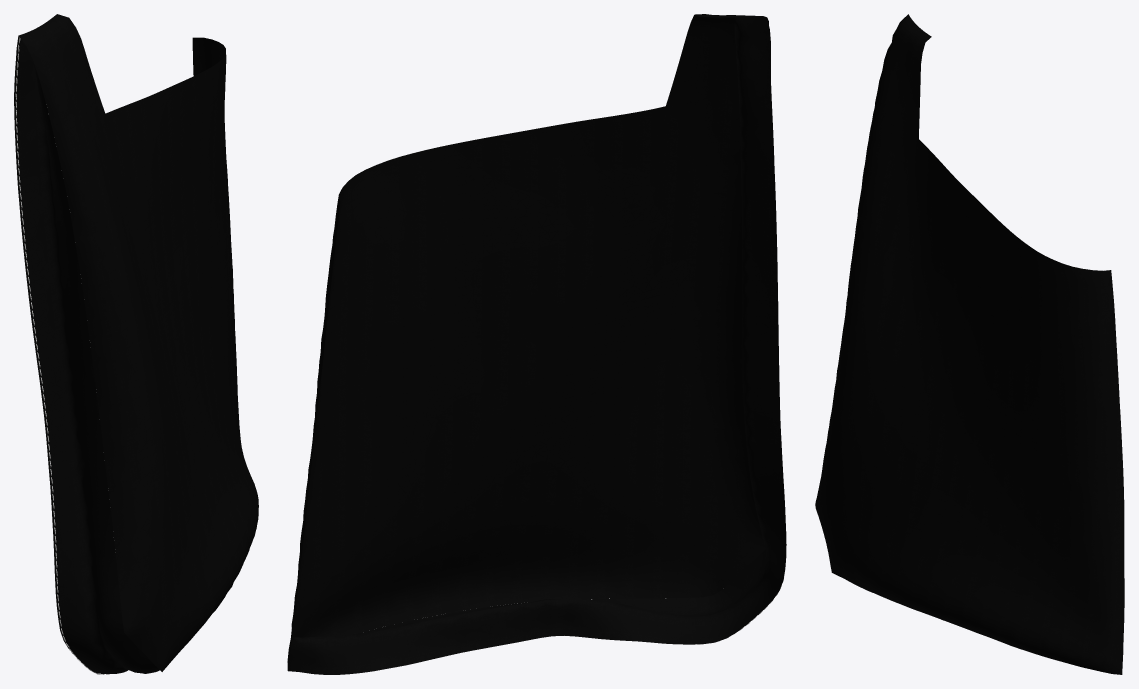
Rendered from xzzuoqdouq.glb.
3 views of the same model, side by side, from view 1: azimuth 30°, elevation 25°; view 2: azimuth 150°, elevation 25°; view 3: azimuth 270°, elevation 25° (orthographic). The views are drawn at different scales.
Parts seen in each view (by area): view 1: xzzuoqdouq, _1; view 2: xzzuoqdouq; view 3: xzzuoqdouq.
Boxes of the visible parts, bbox=[...] form: xzzuoqdouq: bbox=[14, 14, 258, 674]; _1: bbox=[15, 37, 104, 674]; xzzuoqdouq: bbox=[287, 14, 786, 674]; xzzuoqdouq: bbox=[815, 14, 1124, 674].
Bounding box in the file's own units: 1.59 × 2.79 × 1.46.
Materials: 2 (2 with a texture image).
